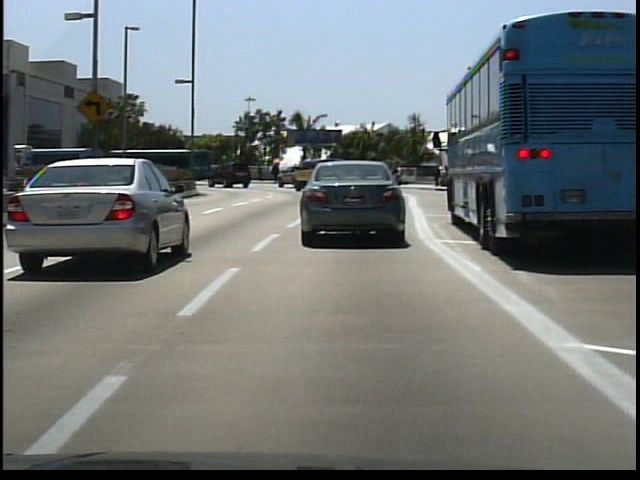person: (430, 163, 444, 190), (256, 160, 266, 181)
